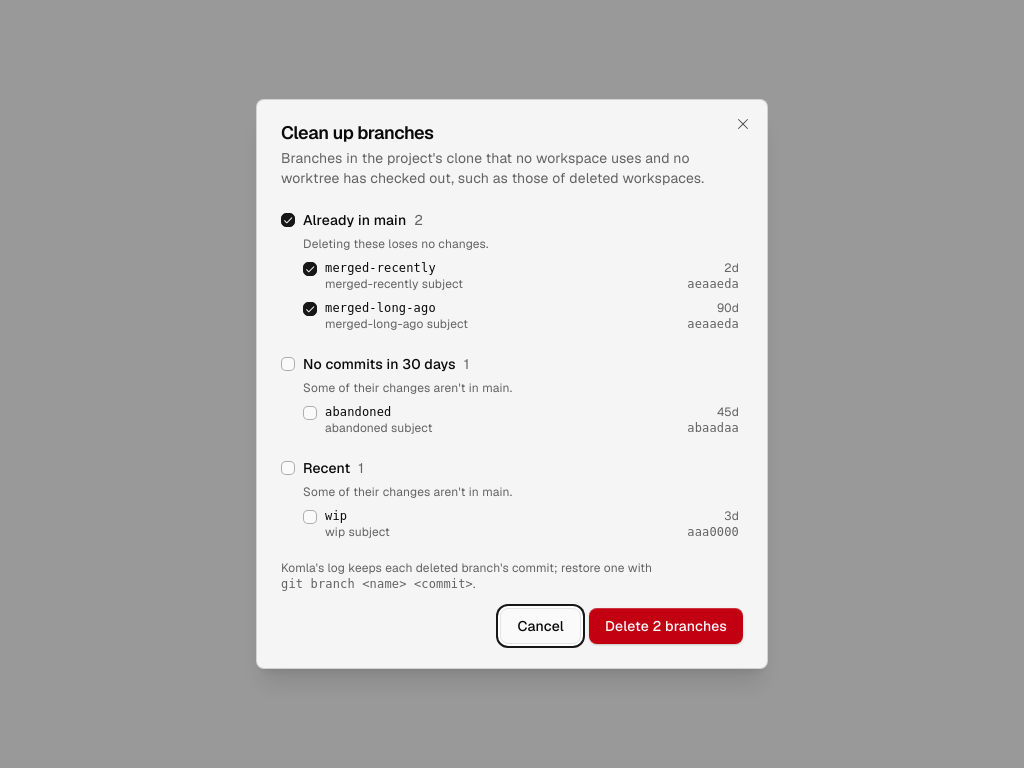
Test: BranchCleanupDialog › stays open and lists the branches it kept, then lists again
Click the button "Delete 2 branches" at (666, 626), box x1=589 y1=608 x2=743 y2=644
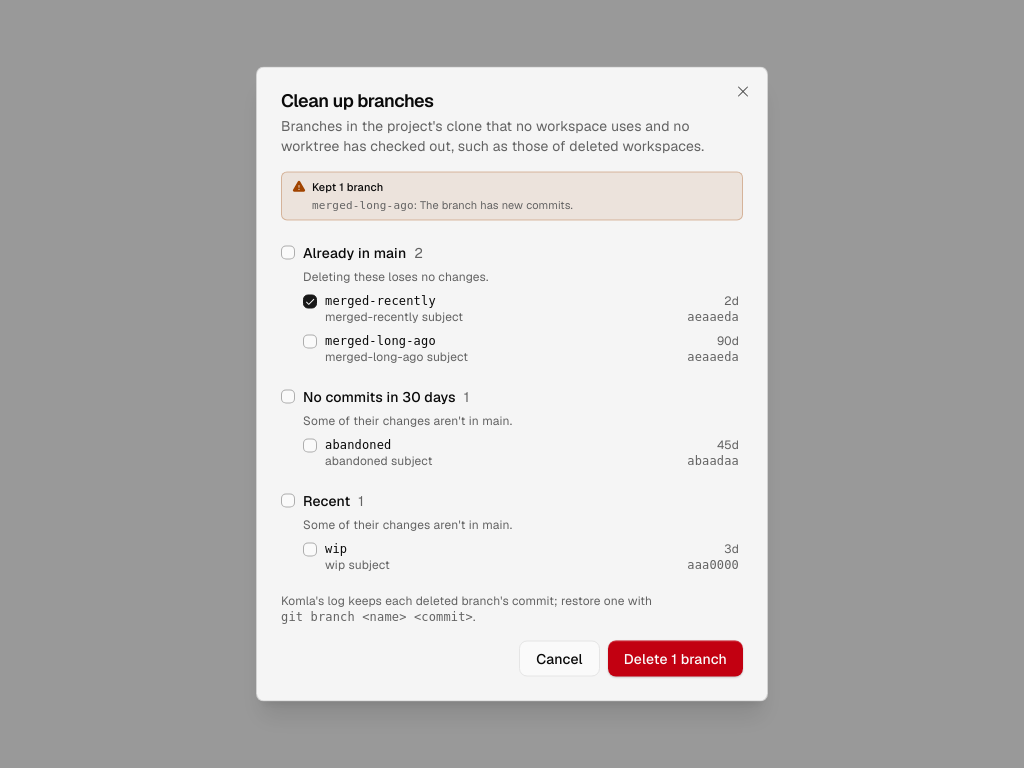
Check: the text "Kept 1 branch" is shown, box x1=312 y1=180 x2=383 y2=194
Check: the list item "merged-long-ago: The branch has new commits." is shown, box x1=312 y1=198 x2=573 y2=212
